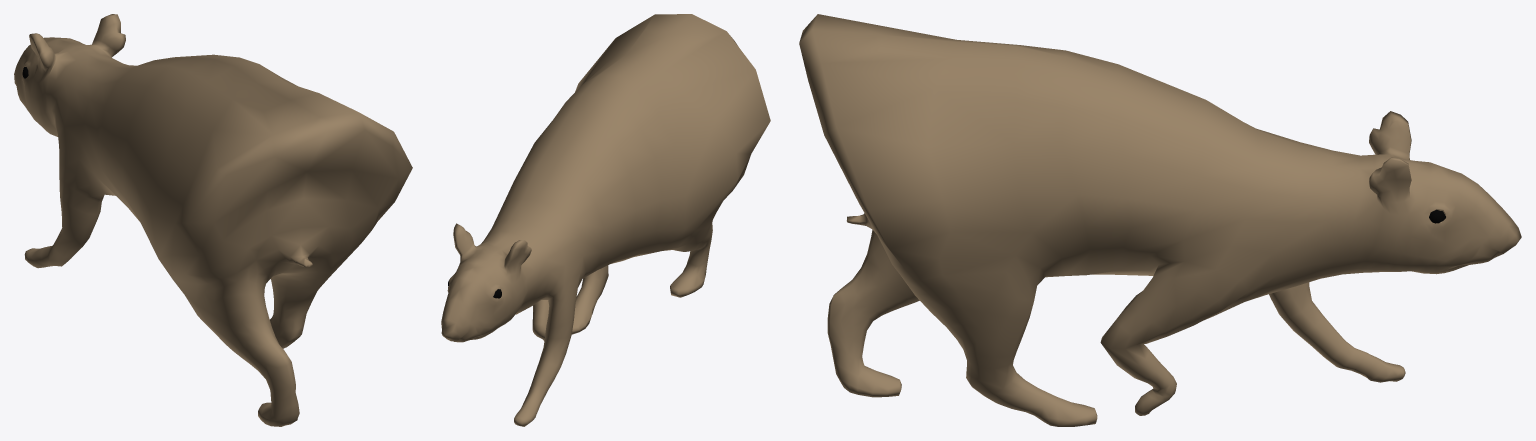
File: AGOUTI_puff.fbx
3 views of the same model, side by side, from view 1: azimuth 30°, elevation 25°; view 2: azimuth 150°, elevation 25°; view 3: azimuth 270°, elevation 25° (orthographic). The views are drawn at different scales.
Visible parts, largest first — view 1: agouti_puff_skirt; view 2: agouti_puff_skirt; view 3: agouti_puff_skirt.
Boxes of the visible parts, x1=… form: agouti_puff_skirt: x1=14, y1=14, x2=412, y2=426; agouti_puff_skirt: x1=441, y1=14, x2=770, y2=426; agouti_puff_skirt: x1=799, y1=14, x2=1521, y2=426.
Bounding box in the file's own units: 669 × 878 × 1544.
